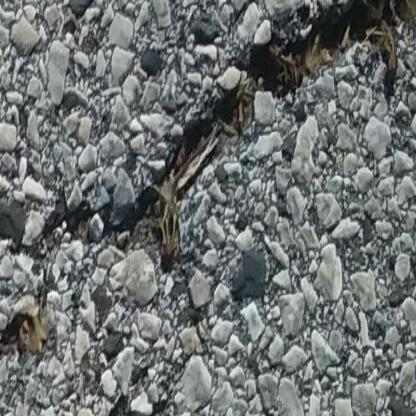Cracks: (49, 0, 416, 282), (0, 295, 45, 383)
